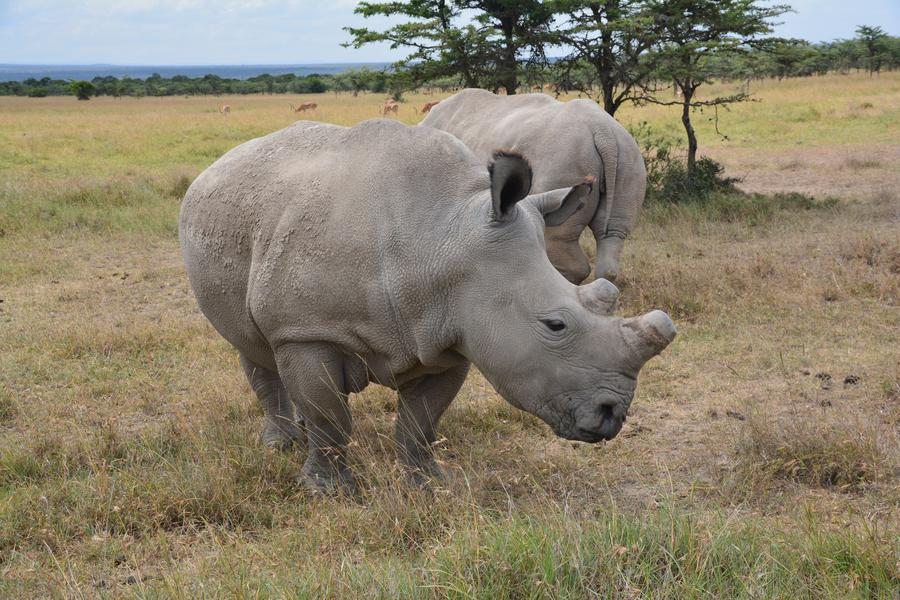rhino: (189, 119, 631, 503), (420, 80, 645, 285)
